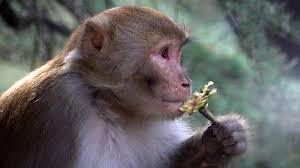monkey: (41, 1, 270, 167)
